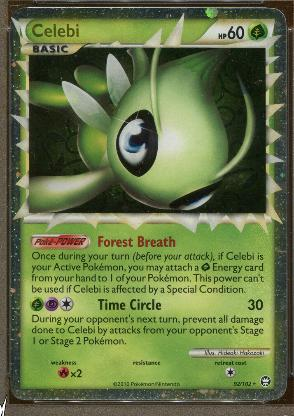Card: (9, 5, 289, 402)
